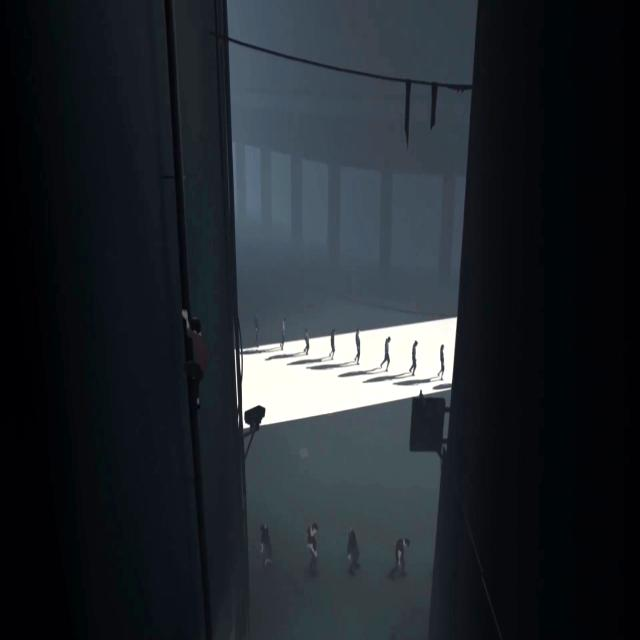boy: (182, 310, 208, 412)
zombie: (390, 538, 410, 578), (346, 528, 360, 575), (306, 523, 318, 576), (259, 524, 273, 566), (409, 339, 418, 376), (381, 336, 390, 372), (438, 342, 445, 380), (280, 317, 287, 352), (354, 330, 360, 366), (329, 330, 336, 360), (303, 328, 310, 356), (255, 312, 259, 346)
